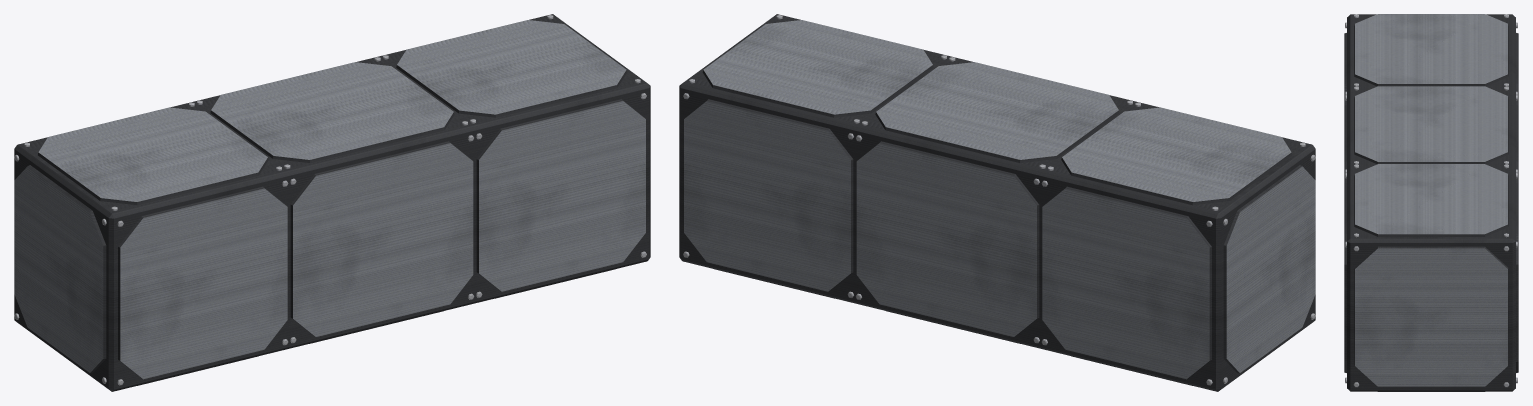
Rendered from R4B_Beam3.glb.
3 views of the same model, side by side, from view 1: azimuth 30°, elevation 25°; view 2: azimuth 150°, elevation 25°; view 3: azimuth 270°, elevation 25° (orthographic). The views are drawn at different scales.
Parts seen in each view (by area): view 1: R4B_Beam3; view 2: R4B_Beam3; view 3: R4B_Beam3.
Boxes of the visible parts, x1,y1,x2,y2 form: R4B_Beam3: [14, 14, 650, 391]; R4B_Beam3: [679, 14, 1315, 391]; R4B_Beam3: [1344, 14, 1518, 391].
Size of the model in its own units: 1.62 by 0.52 by 0.52.
3 materials, 3 textured.
